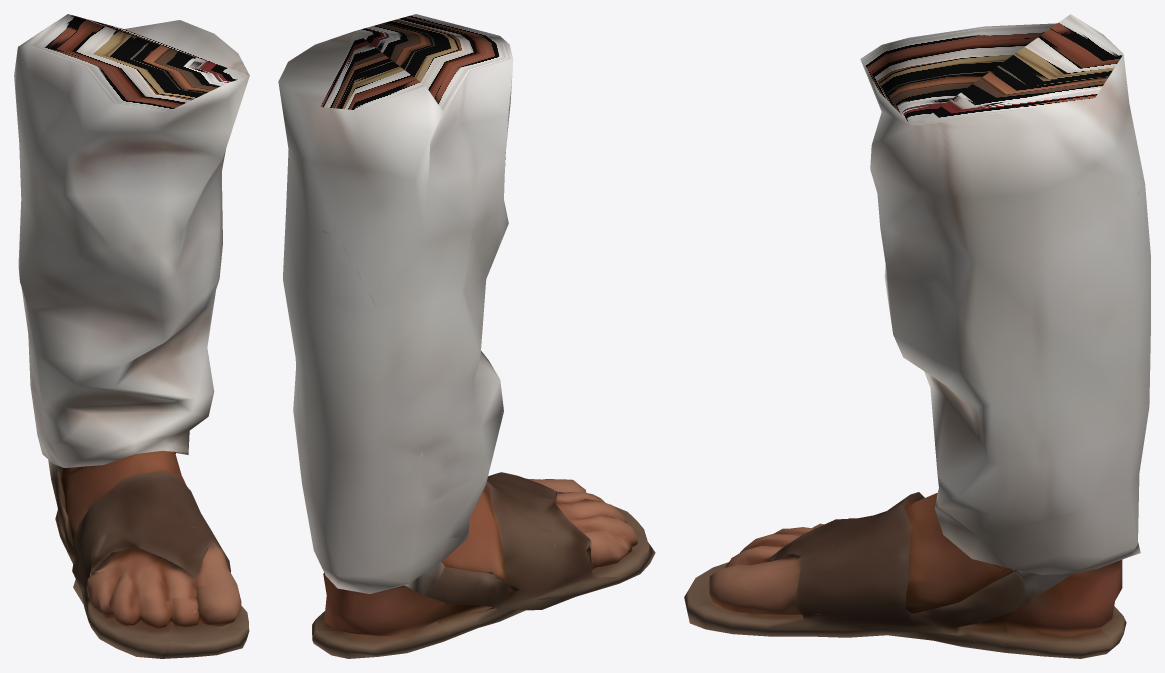
Rendered from pantorrillaDer.obj.
3 views of the same model, side by side, from view 1: azimuth 30°, elevation 25°; view 2: azimuth 150°, elevation 25°; view 3: azimuth 270°, elevation 25° (orthographic). The views are drawn at different scales.
Parts seen in each view (by area): view 1: pantorrillaDer; view 2: pantorrillaDer; view 3: pantorrillaDer.
Part boxes in pixels (x1,y1,x2,y2): pantorrillaDer: (14,14,249,658); pantorrillaDer: (278,14,655,658); pantorrillaDer: (684,14,1150,658).
Bounding box in the file's own units: 0.0986 × 0.2236 × 0.1592.
Materials: 1 (1 with a texture image).
